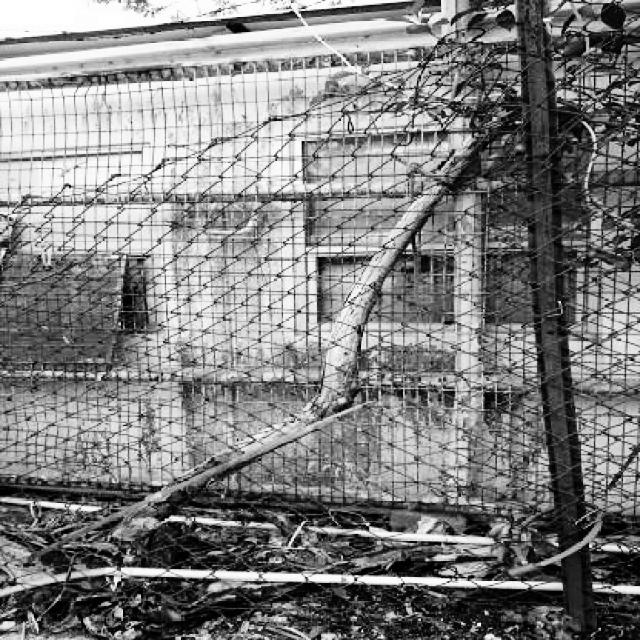anomaly-fence: (0, 50, 490, 252)
